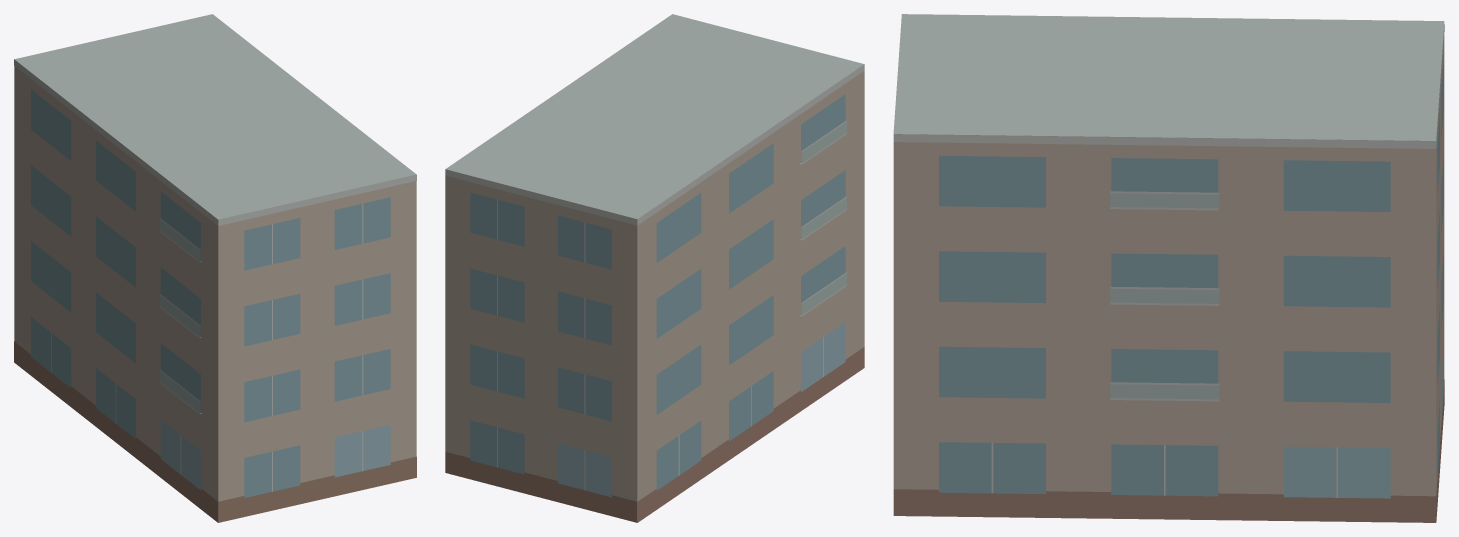
File: survey-upis-32551364.glb
3 renders of one model, left to right at view 1: azimuth 30°, elevation 25°; view 2: azimuth 150°, elevation 25°; view 3: azimuth 270°, elevation 25°, orthographic. The views are drawn at different scales.
Parts seen in each view (by area): view 1: survey-upis-32551364.tmp; view 2: survey-upis-32551364.tmp; view 3: survey-upis-32551364.tmp.
Part boxes in pixels (x1=…): survey-upis-32551364.tmp: x1=14, y1=14, x2=416, y2=522; survey-upis-32551364.tmp: x1=445, y1=14, x2=864, y2=522; survey-upis-32551364.tmp: x1=893, y1=14, x2=1444, y2=522.
Size of the model in its own units: 8.28 by 11.6 by 15.18.
